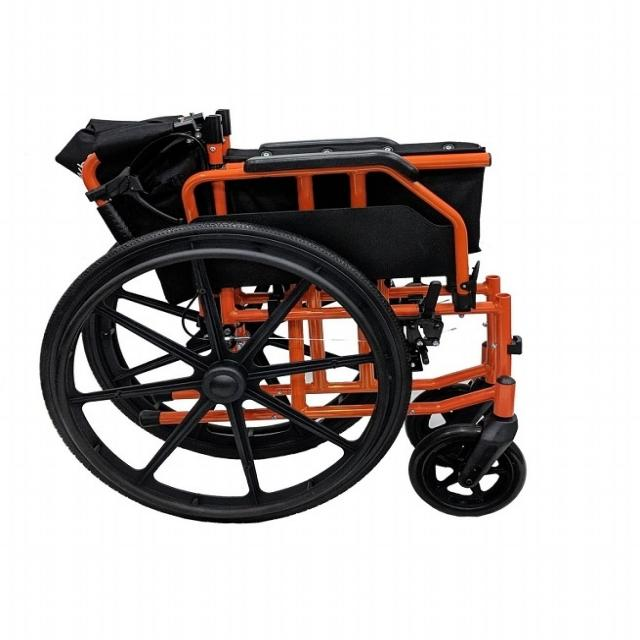wheelchair: (28, 95, 543, 528)
